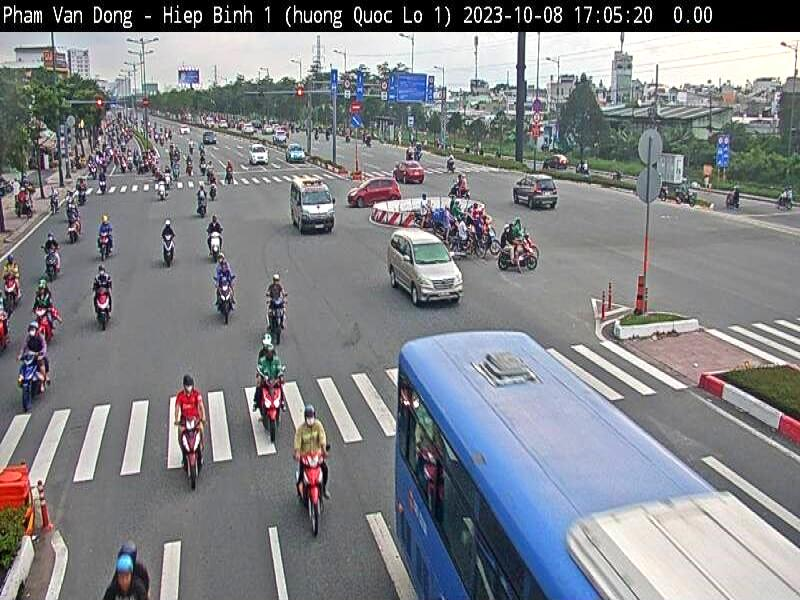bus: (398, 328, 800, 600)
car: (388, 227, 464, 306), (288, 172, 336, 231), (346, 173, 403, 212), (512, 172, 561, 211)
motorcycle: (295, 448, 328, 541), (175, 412, 207, 491), (257, 369, 285, 440)
